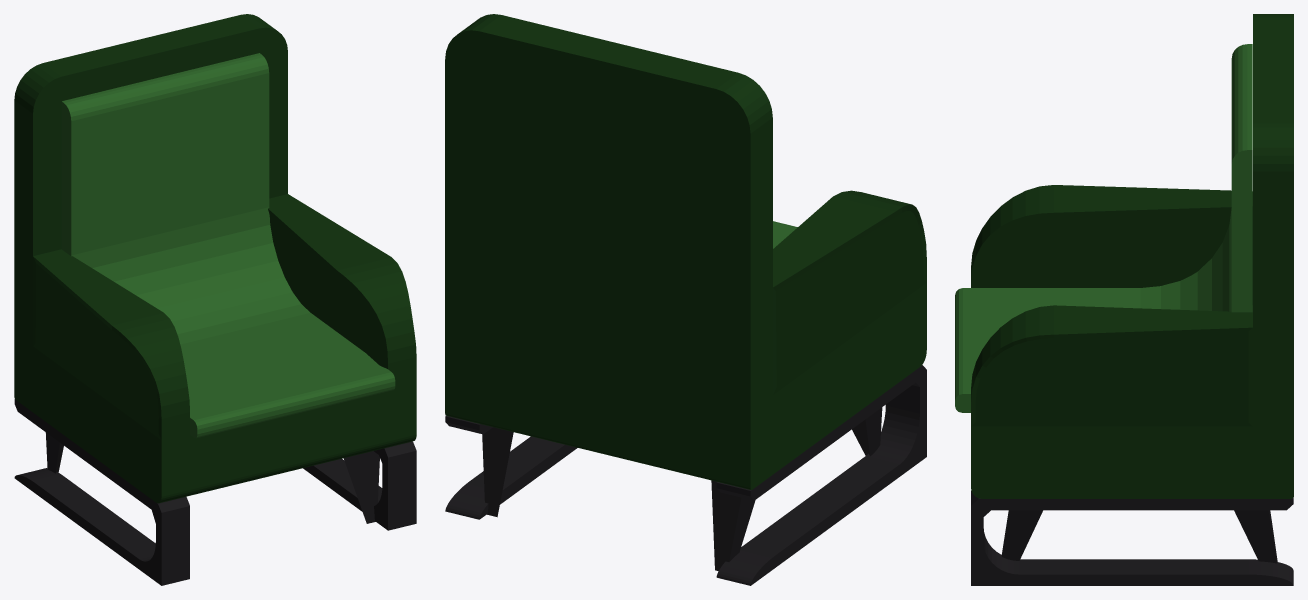
File: laptop.gltf
3 renders of one model, left to right at view 1: azimuth 30°, elevation 25°; view 2: azimuth 150°, elevation 25°; view 3: azimuth 270°, elevation 25°, orthographic. The views are drawn at different scales.
Parts seen in each view (by area): view 1: Chair, Cushion, Legs1, Legs2; view 2: Chair, Legs1, Legs2; view 3: Chair, Cushion, Legs1, Legs2.
Part boxes in pixels (left/top/right/bottom): Chair: left=14, top=14, right=416, bottom=503; Cushion: left=61, top=53, right=395, bottom=438; Legs1: left=14, top=399, right=416, bottom=585; Legs2: left=45, top=432, right=379, bottom=523; Chair: left=445, top=14, right=926, bottom=489; Legs1: left=445, top=365, right=926, bottom=585; Legs2: left=482, top=407, right=882, bottom=570; Chair: left=971, top=14, right=1293, bottom=498; Cushion: left=955, top=44, right=1252, bottom=412; Legs1: left=971, top=491, right=1293, bottom=585; Legs2: left=1001, top=510, right=1277, bottom=563.
Bounding box in the file's own units: 2.2 × 3.07 × 2.1.
